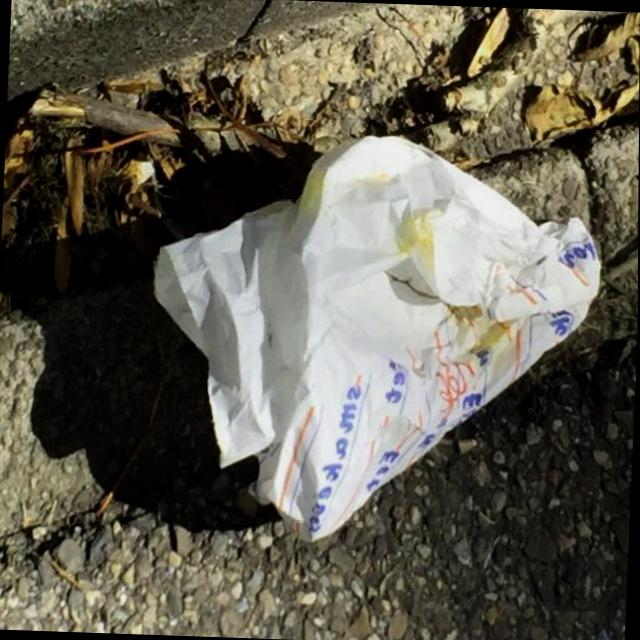Paper: (139, 124, 610, 558)
